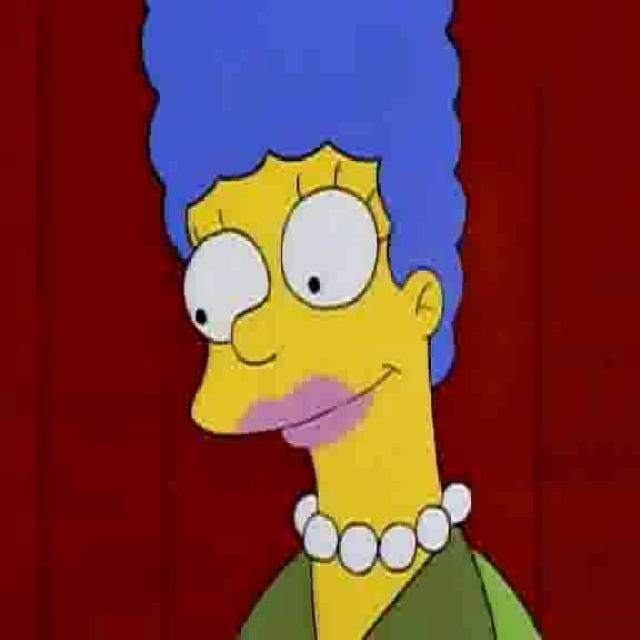Marge Simpson: (136, 0, 475, 554)
